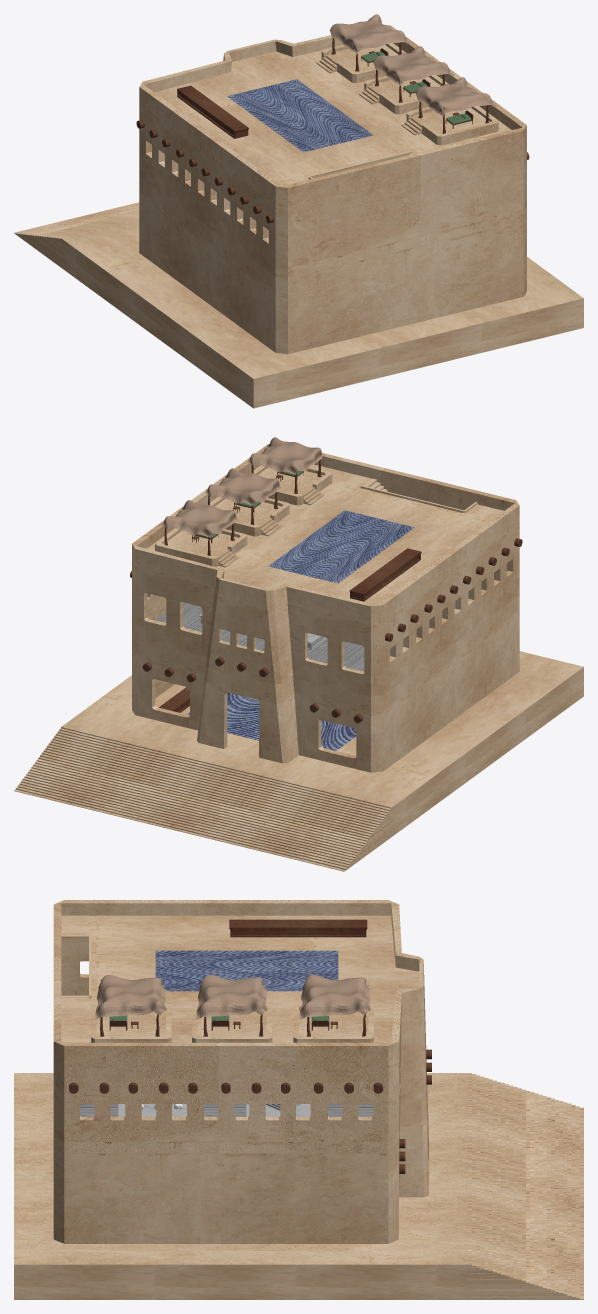
Rendered from Shop_Simple.glb.
3 renders of one model, top to bottom at view 1: azimuth 30°, elevation 25°; view 2: azimuth 150°, elevation 25°; view 3: azimuth 270°, elevation 25°, orthographic. The views are drawn at different scales.
Parts seen in each view (by area): view 1: stair, wall.003, wall.004, wall.001, Third Floor.001, wall.002, Plane, Platform.002, Plane.002, Plane.003, Platform.003, Plane.001 (+2 smaller); view 2: stair, wall.001, wall.002, Third Floor.001, Plane, wall.003, Platform.003, Plane.004, Second Floor.001, Platform.001, Platform.002, Plane.002 (+3 smaller); view 3: stair, wall.003, wall.004, Third Floor.001, wall.001, Plane, wall.002, Cube.002, Plane.002, Plane.001, Plane.003, Platform.003 (+3 smaller).
Boxes of the visible parts, left/top/right/bottom form: stair: left=14, top=202, right=583, bottom=408; wall.003: left=282, top=25, right=526, bottom=277; wall.004: left=288, top=216, right=526, bottom=354; wall.001: left=139, top=24, right=389, bottom=277; Third Floor.001: left=155, top=43, right=511, bottom=185; wall.002: left=139, top=177, right=287, bottom=354; Plane: left=227, top=79, right=373, bottom=152; Platform.002: left=401, top=106, right=498, bottom=145; Plane.002: left=330, top=14, right=410, bottom=54; Plane.003: left=415, top=77, right=496, bottom=117; Platform.003: left=316, top=43, right=405, bottom=83; Plane.001: left=373, top=46, right=453, bottom=86; stair: left=14, top=651, right=583, bottom=871; wall.001: left=132, top=500, right=519, bottom=696; wall.002: left=132, top=595, right=519, bottom=772; Third Floor.001: left=147, top=464, right=503, bottom=604; Plane: left=268, top=510, right=414, bottom=583; wall.003: left=132, top=444, right=516, bottom=620; Platform.003: left=155, top=528, right=247, bottom=567; Plane.004: left=186, top=692, right=356, bottom=750; Second Floor.001: left=156, top=586, right=481, bottom=671; Platform.001: left=210, top=496, right=289, bottom=536; Platform.002: left=253, top=465, right=332, bottom=505; Plane.002: left=162, top=500, right=237, bottom=537; stair: left=14, top=1073, right=583, bottom=1299; wall.003: left=53, top=903, right=391, bottom=1153; wall.004: left=53, top=1149, right=388, bottom=1243; Third Floor.001: left=61, top=915, right=419, bottom=1042; wall.001: left=55, top=900, right=426, bottom=1152; Plane: left=155, top=950, right=338, bottom=991; wall.002: left=388, top=1072, right=428, bottom=1243; Cube.002: left=229, top=919, right=367, bottom=937; Plane.002: left=299, top=975, right=370, bottom=1019; Plane.001: left=196, top=975, right=267, bottom=1019; Plane.003: left=95, top=975, right=166, bottom=1019; Platform.003: left=293, top=1003, right=373, bottom=1042.
Bounding box in the file's own units: 50 × 32.14 × 62.78.
17 materials, 12 textured.
